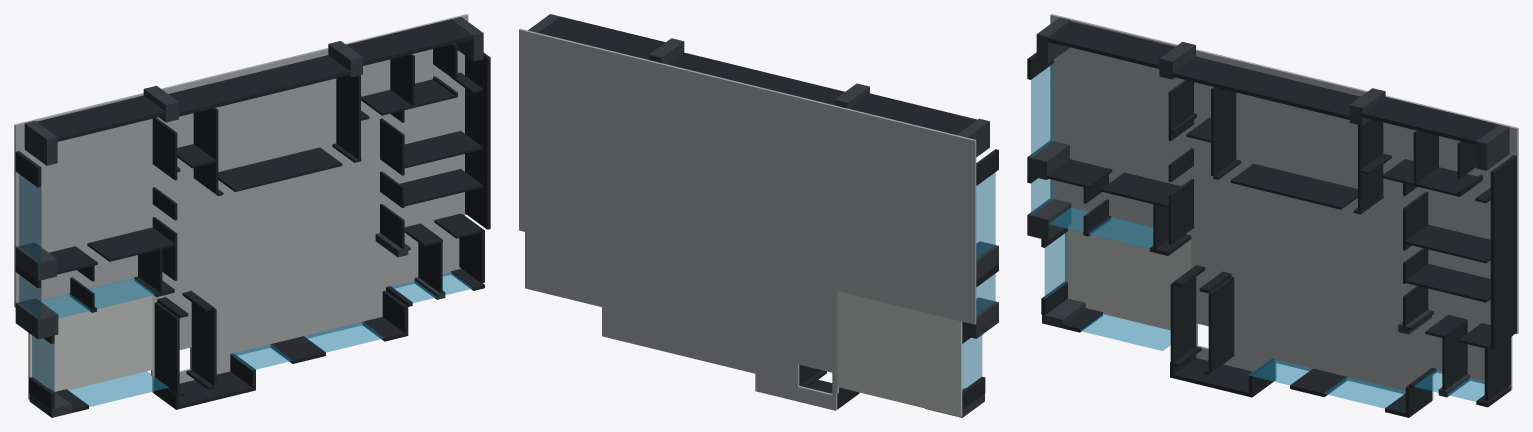
Rendered from villa_B1.obj.
3 views of the same model, side by side, from view 1: azimuth 30°, elevation 25°; view 2: azimuth 150°, elevation 25°; view 3: azimuth 330°, elevation 25° (orthographic). The views are drawn at different scales.
Parts seen in each view (by area): view 1: B1_Floor_Main, B1_Terrace_Courtyard, B1_Wall_Exterior_002_North_Center, B1_Wall_Exterior_019_Services_EastUpper, B1_Wall_Exterior_001_Gym_North, B1_Wall_Exterior_003_Service_North, B1_Wall_Interior_009_CinemaSouth_Center, B1_Wall_Stair_001_From1F_West, B1_Wall_Interior_007_CinemaLaundry, B1_Wall_Stair_002_From1F_East, B1_Glass_006_Courtyard_South, B1_Wall_Interior_022_Electrical_Water (+43 smaller); view 2: B1_Floor_Main, B1_Terrace_Courtyard, B1_Wall_Exterior_002_North_Center, B1_Wall_Exterior_003_Service_North, B1_Wall_Exterior_001_Gym_North, B1_Glass_001_Gym_West, B1_Glass_003_Courtyard_West, B1_Column_006_West_Courtyard, B1_Column_005_West_GymStorage, B1_Column_001_NorthWest_Step, B1_Column_003_Laundry_North, B1_Glass_002_Storage_West (+3 smaller); view 3: B1_Floor_Main, B1_Terrace_Courtyard, B1_Wall_Exterior_019_Services_EastUpper, B1_Wall_Exterior_002_North_Center, B1_Wall_Exterior_003_Service_North, B1_Wall_Exterior_001_Gym_North, B1_Wall_Interior_009_CinemaSouth_Center, B1_Wall_Stair_002_From1F_East, B1_Wall_Interior_004_ShowerCinema, B1_Wall_Stair_001_From1F_West, B1_Wall_Interior_007_CinemaLaundry, B1_Wall_Interior_022_Electrical_Water (+40 smaller).
Boxes of the visible parts, x1,y1,x2,y2 form: B1_Floor_Main: (14, 14, 468, 393); B1_Terrace_Courtyard: (28, 279, 152, 399); B1_Wall_Exterior_002_North_Center: (168, 55, 350, 116); B1_Wall_Exterior_019_Services_EastUpper: (465, 53, 490, 229); B1_Wall_Exterior_001_Gym_North: (37, 95, 165, 141); B1_Wall_Exterior_003_Service_North: (346, 19, 473, 65); B1_Wall_Interior_009_CinemaSouth_Center: (218, 147, 342, 191); B1_Wall_Stair_001_From1F_West: (154, 302, 179, 394); B1_Wall_Interior_007_CinemaLaundry: (336, 75, 360, 159); B1_Wall_Stair_002_From1F_East: (191, 302, 216, 385); B1_Glass_006_Courtyard_South: (68, 371, 168, 406); B1_Wall_Interior_022_Electrical_Water: (400, 169, 482, 206); B1_Floor_Main: (519, 28, 976, 410); B1_Terrace_Courtyard: (837, 291, 962, 416); B1_Wall_Exterior_002_North_Center: (668, 52, 844, 104); B1_Wall_Exterior_003_Service_North: (538, 16, 665, 59); B1_Wall_Exterior_001_Gym_North: (849, 93, 976, 134); B1_Glass_001_Gym_West: (976, 172, 995, 258); B1_Glass_003_Courtyard_West: (962, 335, 982, 390); B1_Column_006_West_Courtyard: (962, 297, 998, 338); B1_Column_005_West_GymStorage: (976, 241, 998, 279); B1_Column_001_NorthWest_Step: (957, 118, 989, 157); B1_Column_003_Laundry_North: (649, 38, 684, 64); B1_Glass_002_Storage_West: (976, 274, 995, 314); B1_Floor_Main: (1050, 14, 1518, 400); B1_Terrace_Courtyard: (1065, 208, 1191, 330); B1_Wall_Exterior_019_Services_EastUpper: (1490, 155, 1516, 349); B1_Wall_Exterior_002_North_Center: (1173, 56, 1360, 119); B1_Wall_Exterior_003_Service_North: (1362, 97, 1498, 144); B1_Wall_Exterior_001_Gym_North: (1048, 21, 1174, 68); B1_Wall_Interior_009_CinemaSouth_Center: (1230, 163, 1357, 209); B1_Wall_Stair_002_From1F_East: (1208, 276, 1234, 372); B1_Wall_Interior_004_ShowerCinema: (1211, 87, 1236, 175); B1_Wall_Stair_001_From1F_West: (1170, 277, 1196, 363); B1_Wall_Interior_007_CinemaLaundry: (1358, 119, 1383, 211); B1_Wall_Interior_022_Electrical_Water: (1405, 264, 1490, 302).
Bounding box in the file's own units: 37.47 × 24.28 × 3.4.
